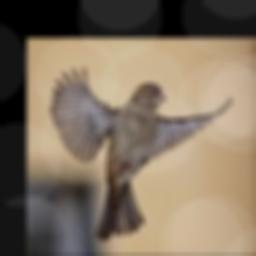Sparrow: (50, 65, 232, 240)
